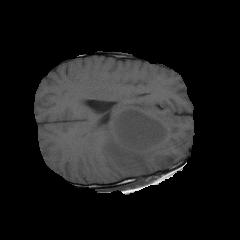glioma: (100, 101, 179, 174)
